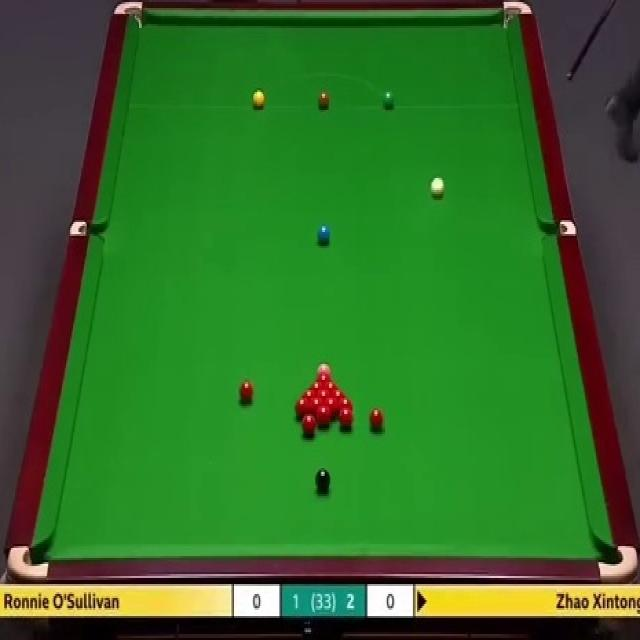black-ball: (315, 467, 331, 493)
blue-ball: (317, 224, 330, 242)
brown-ball: (317, 92, 330, 109)
green-ball: (382, 88, 396, 112)
pink-ball: (317, 363, 332, 380)
red-ball: (368, 406, 386, 434), (238, 380, 255, 404), (295, 396, 311, 420), (337, 409, 355, 430), (301, 412, 317, 434), (322, 398, 340, 416), (317, 405, 331, 426), (338, 397, 353, 416), (330, 387, 346, 402), (302, 387, 318, 401), (311, 398, 322, 418), (317, 388, 331, 402), (324, 378, 336, 394), (310, 380, 324, 392)
white-ball: (429, 176, 446, 200)
yellow-ball: (252, 89, 266, 110)
